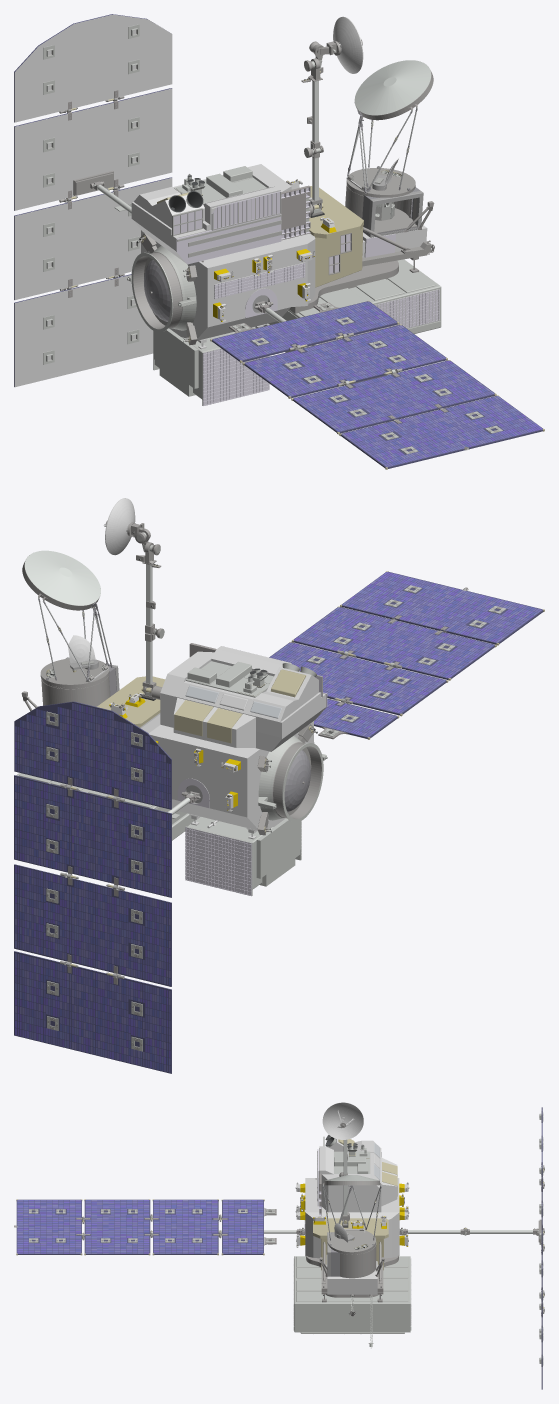
Rendered from global-precipitation-measurement.glb.
3 views of the same model, one above another, from view 1: azimuth 30°, elevation 25°; view 2: azimuth 150°, elevation 25°; view 3: azimuth 270°, elevation 25° (orthographic). The views are drawn at different scales.
Visible parts, largest first — view 1: GPM-MainBus; view 2: GPM-MainBus; view 3: GPM-MainBus.
Boxes of the visible parts, x1,y1,x2,y2 form: GPM-MainBus: [14, 14, 544, 469]; GPM-MainBus: [14, 498, 544, 1073]; GPM-MainBus: [14, 1102, 544, 1389].
Bounding box in the file's own units: 190 × 268 × 432.
Materials: 3 (3 with a texture image).
